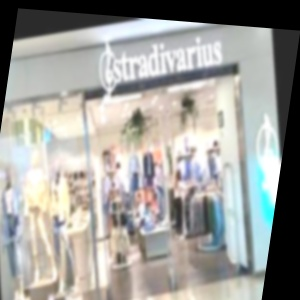stradivarius: (200, 23, 274, 32)
